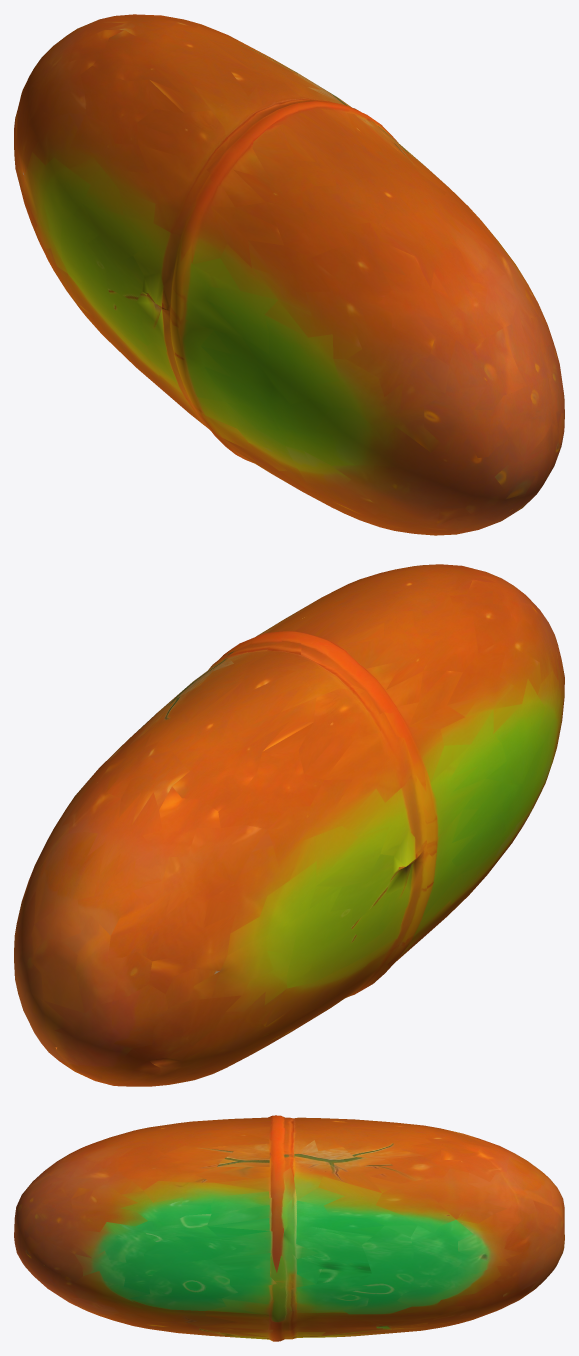
Rendered from Mod_Proyectil_Pintura.fbx.
The picture shows the model from 3 angles, top to bottom: view 1: azimuth 30°, elevation 25°; view 2: azimuth 150°, elevation 25°; view 3: azimuth 270°, elevation 25°; orthographic projection. The views are drawn at different scales.
Parts seen in each view (by area): view 1: Mesh_0; view 2: Mesh_0; view 3: Mesh_0.
Boxes of the visible parts, x1,y1,x2,y2 form: Mesh_0: (14,14,564,535); Mesh_0: (14,564,564,1086); Mesh_0: (14,1115,564,1341).
Bounding box in the file's own units: 1.52 × 2.07 × 4.81.
Materials: 1 (1 with a texture image).
